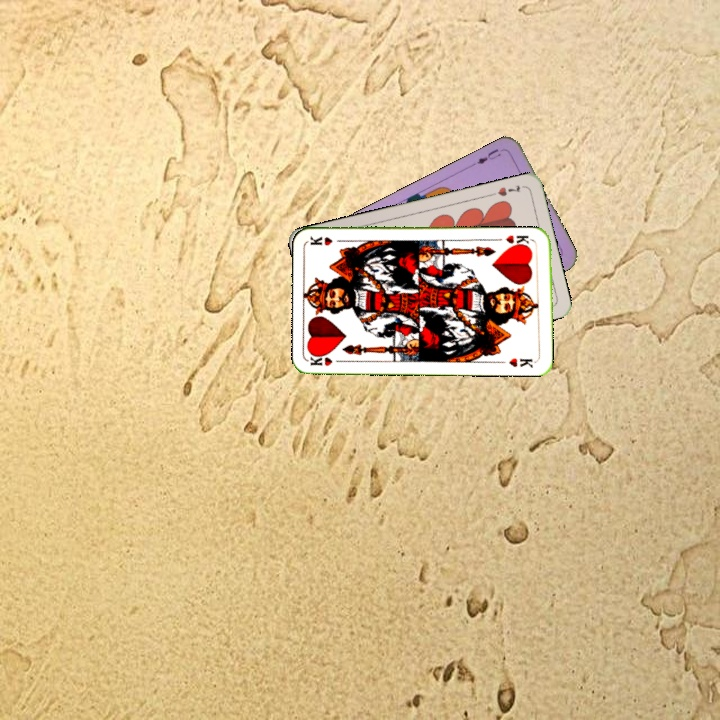EU: (468, 145, 504, 168)
H7: (486, 181, 523, 199)
HK: (307, 350, 348, 369), (502, 231, 537, 250)
